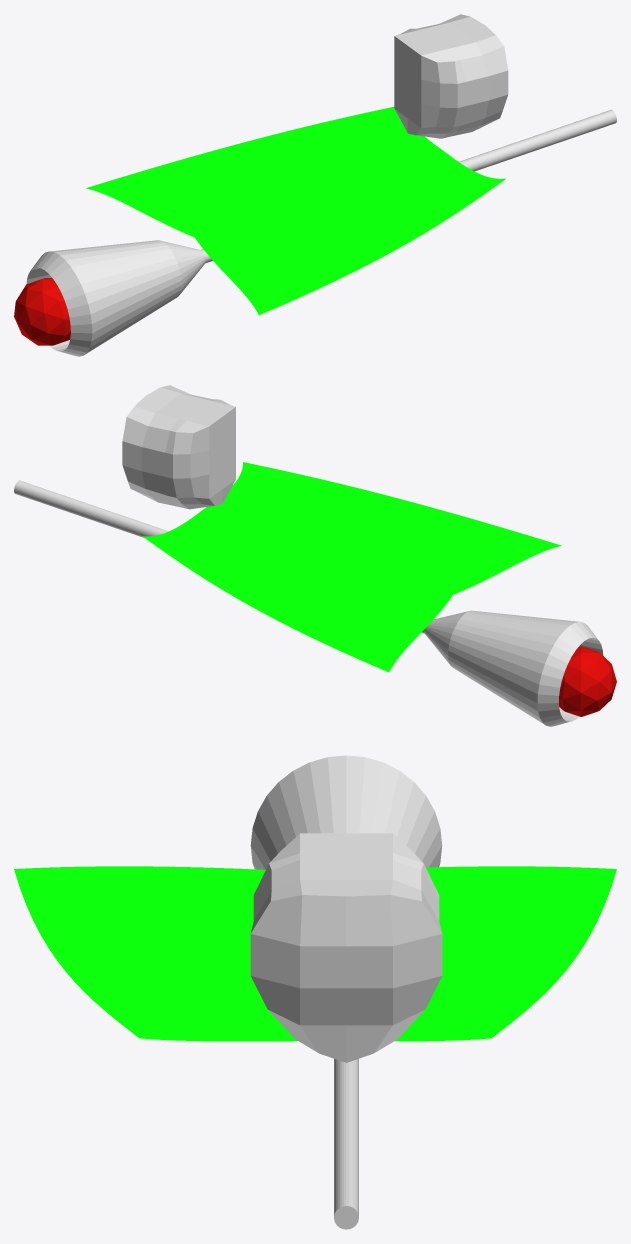
The model's file is QuidditchPlayer 1.fbx.
The picture shows the model from 3 angles, top to bottom: view 1: azimuth 30°, elevation 25°; view 2: azimuth 150°, elevation 25°; view 3: azimuth 270°, elevation 25°; orthographic projection. The views are drawn at different scales.
Parts seen in each view (by area): view 1: SurfPatch, Cylinder, Cube, Icosphere; view 2: SurfPatch, Cylinder, Cube, Icosphere; view 3: SurfPatch, Cube, Cylinder.
Part boxes in pixels (box(x1,y1,x2,y2)): SurfPatch: box(86, 107, 505, 314); Cylinder: box(26, 109, 616, 356); Cube: box(394, 14, 508, 138); Icosphere: box(14, 278, 70, 345); SurfPatch: box(142, 462, 561, 672); Cylinder: box(14, 480, 603, 726); Cube: box(122, 385, 235, 509); Icosphere: box(559, 646, 616, 716); SurfPatch: box(14, 866, 616, 1041); Cube: box(250, 833, 442, 1062); Cylinder: box(250, 755, 442, 1229).
Size of the model in its own units: 386 by 140 by 195.
